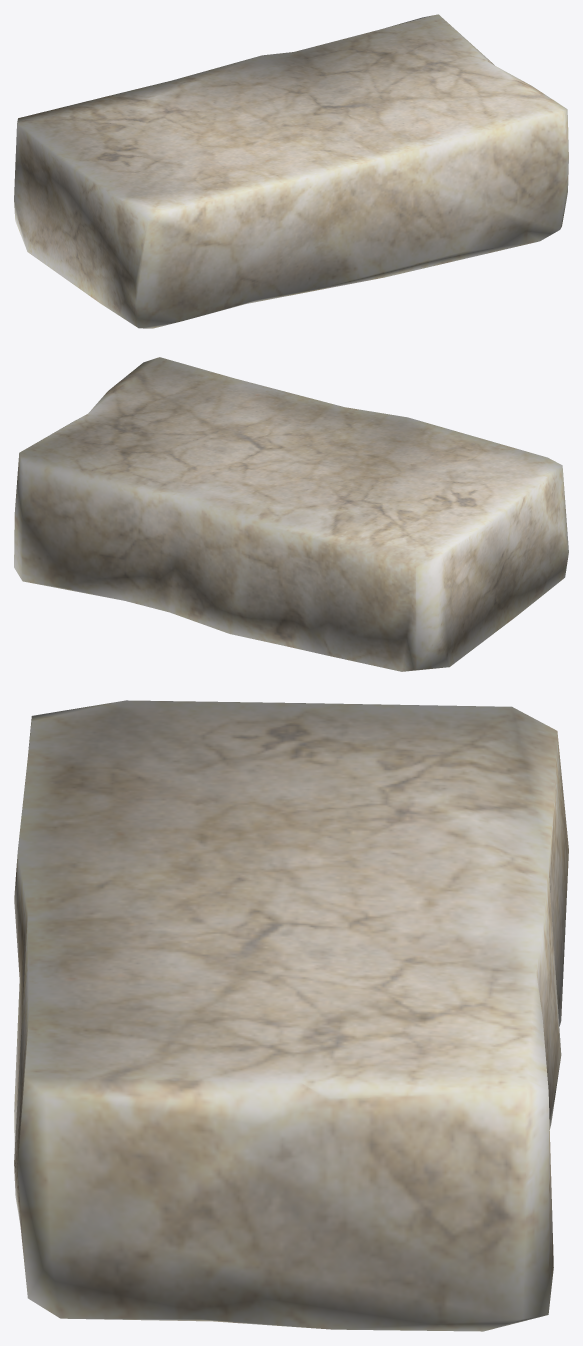
Rendered from SM_StoneRefined_5.fbx.
3 views of the same model, one above another, from view 1: azimuth 30°, elevation 25°; view 2: azimuth 150°, elevation 25°; view 3: azimuth 270°, elevation 25° (orthographic). The views are drawn at different scales.
Parts seen in each view (by area): view 1: SM_StoneRefined_5_; view 2: SM_StoneRefined_5_; view 3: SM_StoneRefined_5_.
Boxes of the visible parts, box(x1,y1,x2,y2) form: SM_StoneRefined_5_: box(14, 14, 568, 328); SM_StoneRefined_5_: box(14, 357, 568, 671); SM_StoneRefined_5_: box(14, 700, 568, 1331).
Size of the model in its own units: 0.6869 by 0.1936 by 0.4022.
